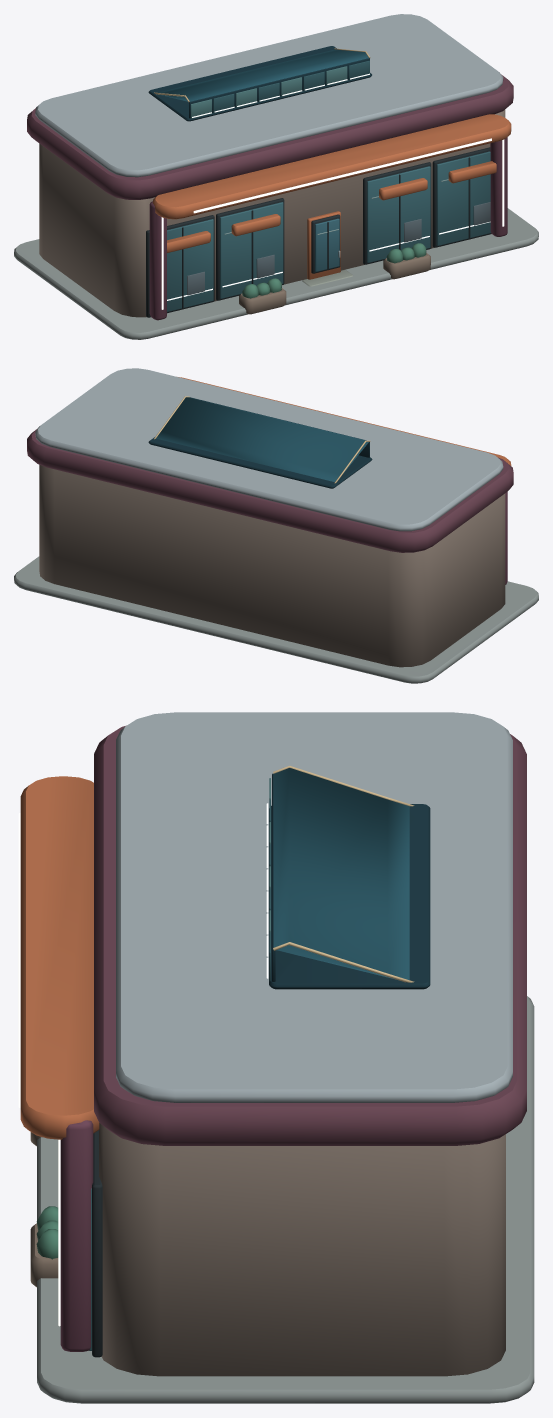
Rendered from metro_mall.glb.
The picture shows the model from 3 angles, top to bottom: view 1: azimuth 30°, elevation 25°; view 2: azimuth 150°, elevation 25°; view 3: azimuth 270°, elevation 25°; orthographic projection. The views are drawn at different scales.
Visible parts, largest first — view 1: Mall; view 2: Mall; view 3: Mall.
Boxes of the visible parts, x1,y1,x2,y2 form: Mall: (14,14,538,339); Mall: (14,368,538,683); Mall: (18,712,534,1403).
Bounding box in the file's own units: 14.45 × 5.75 × 7.73.
